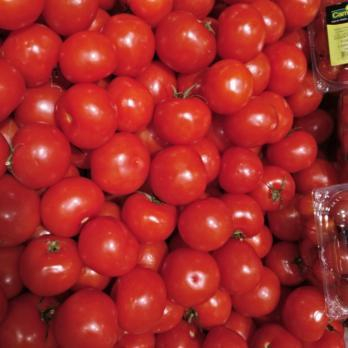Tomato: (1, 0, 329, 348)
